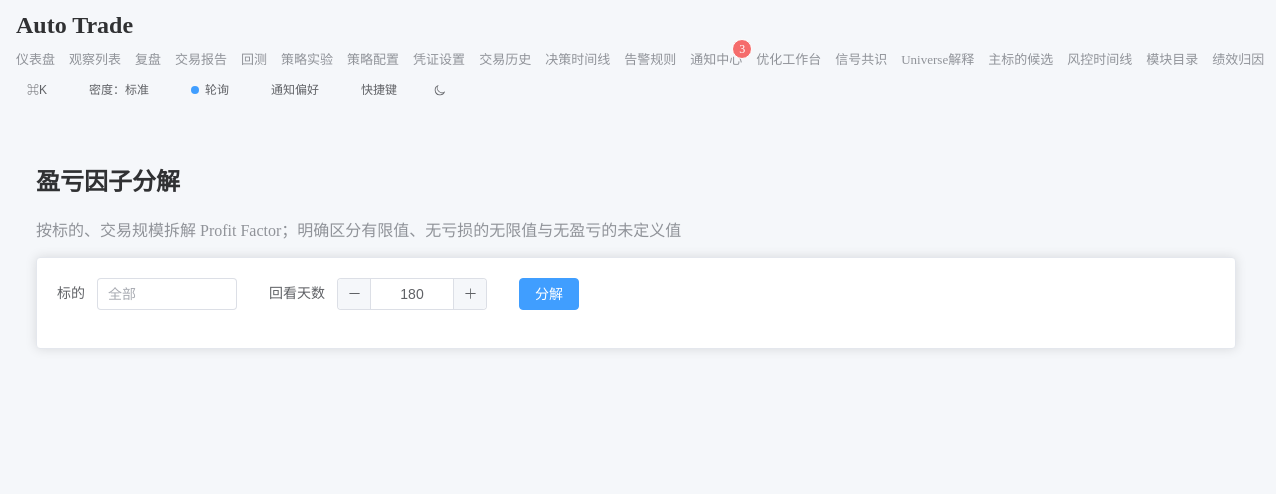
Analytics panels expose FIFO evidence quality › profit-factor surfaces unresolved ledger evidence
The width and height of the screenshot is (1276, 494).
Click the button "分解": (549, 294) [519,278,579,310]
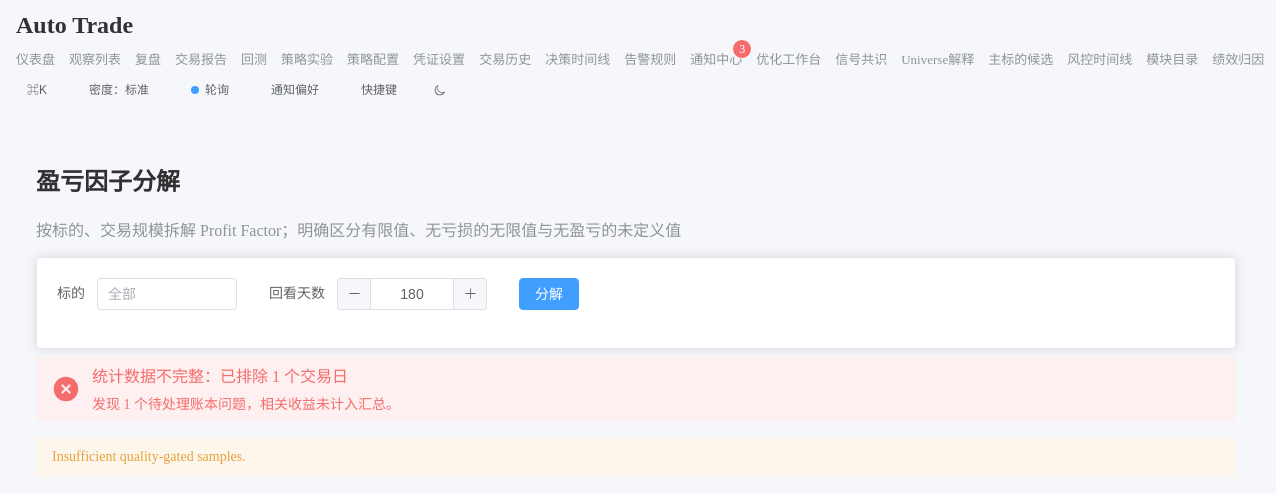
Now the text with test id "statistics-quality-alert" shows "已排除 1 个交易日", box [92,368,348,385]
